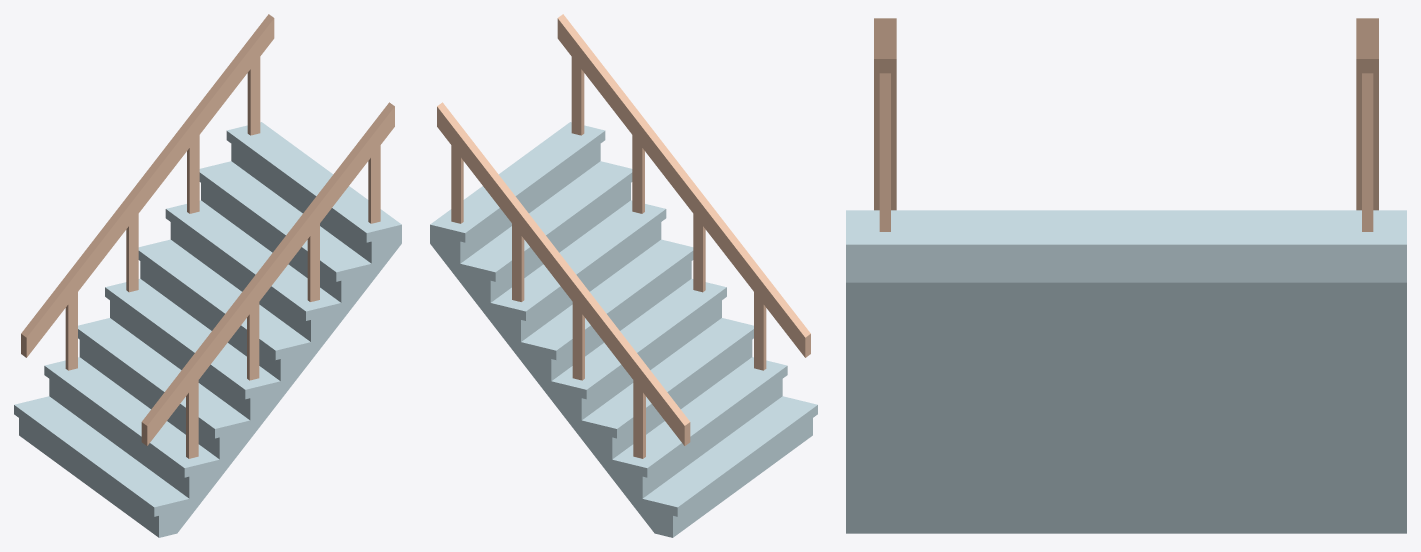
The picture shows the model from 3 angles, left to right: view 1: azimuth 30°, elevation 25°; view 2: azimuth 150°, elevation 25°; view 3: azimuth 270°, elevation 25°; orthographic projection. The views are drawn at different scales.
Parts seen in each view (by area): view 1: stairsWideStoneHandrail, rail; view 2: stairsWideStoneHandrail, rail; view 3: stairsWideStoneHandrail, rail.
Boxes of the visible parts, x1,y1,x2,y2 form: stairsWideStoneHandrail: (14, 122, 401, 537); rail: (21, 14, 394, 458); stairsWideStoneHandrail: (430, 122, 817, 537); rail: (437, 14, 810, 458); stairsWideStoneHandrail: (846, 210, 1406, 533); rail: (874, 18, 1378, 231).
Bounding box in the file's own units: 1.02 × 1.44 × 1.
